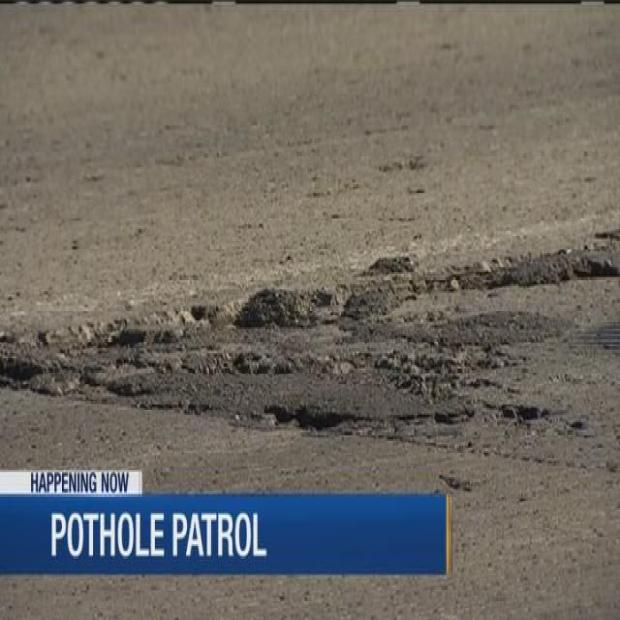lubang: (0, 281, 619, 446)
